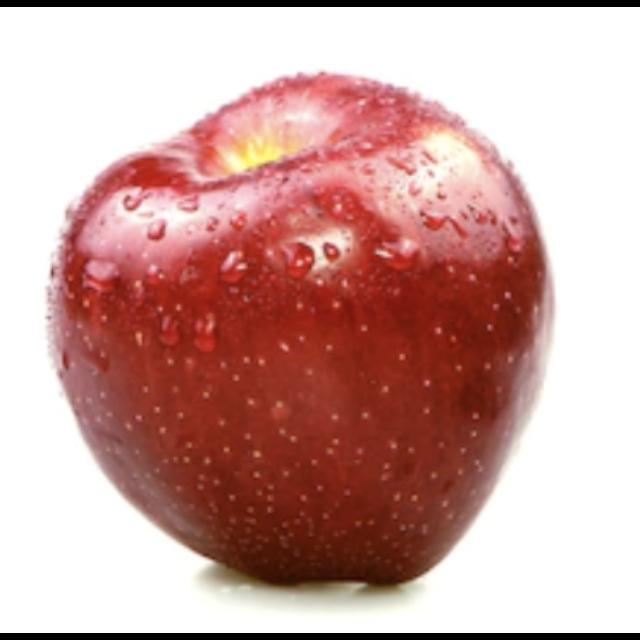Apel Segar: (45, 71, 557, 594)
